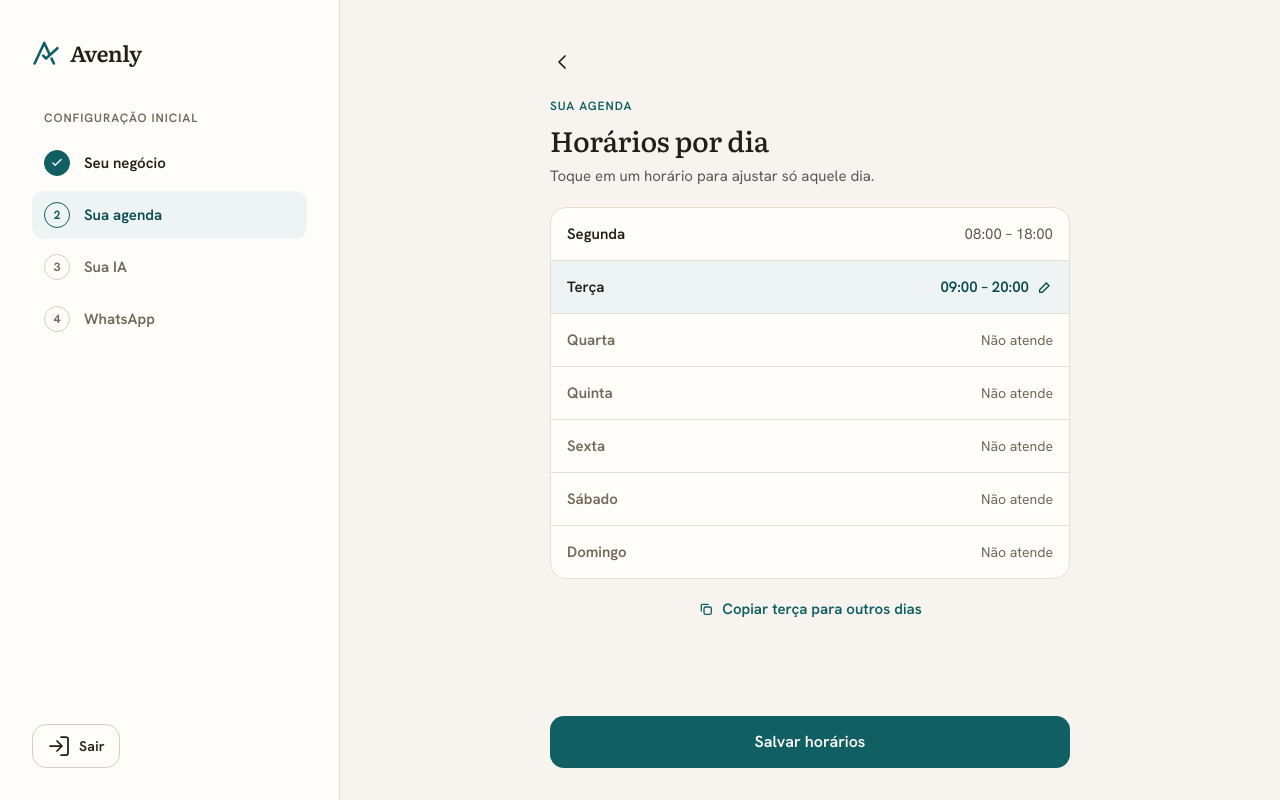
Test case: horarios: Personalizar dias diferentes grava uma regra por dia › a retomada com intervalos diferentes por dia reconstrói cada um, não só o primeiro
The image size is (1280, 800).
Expected: the heading "Horários por dia" is shown, [550,119,769,161]
Click the button "Segunda 08:00 – 18:00" at coordinates (596, 234), box [551,208,1069,260]
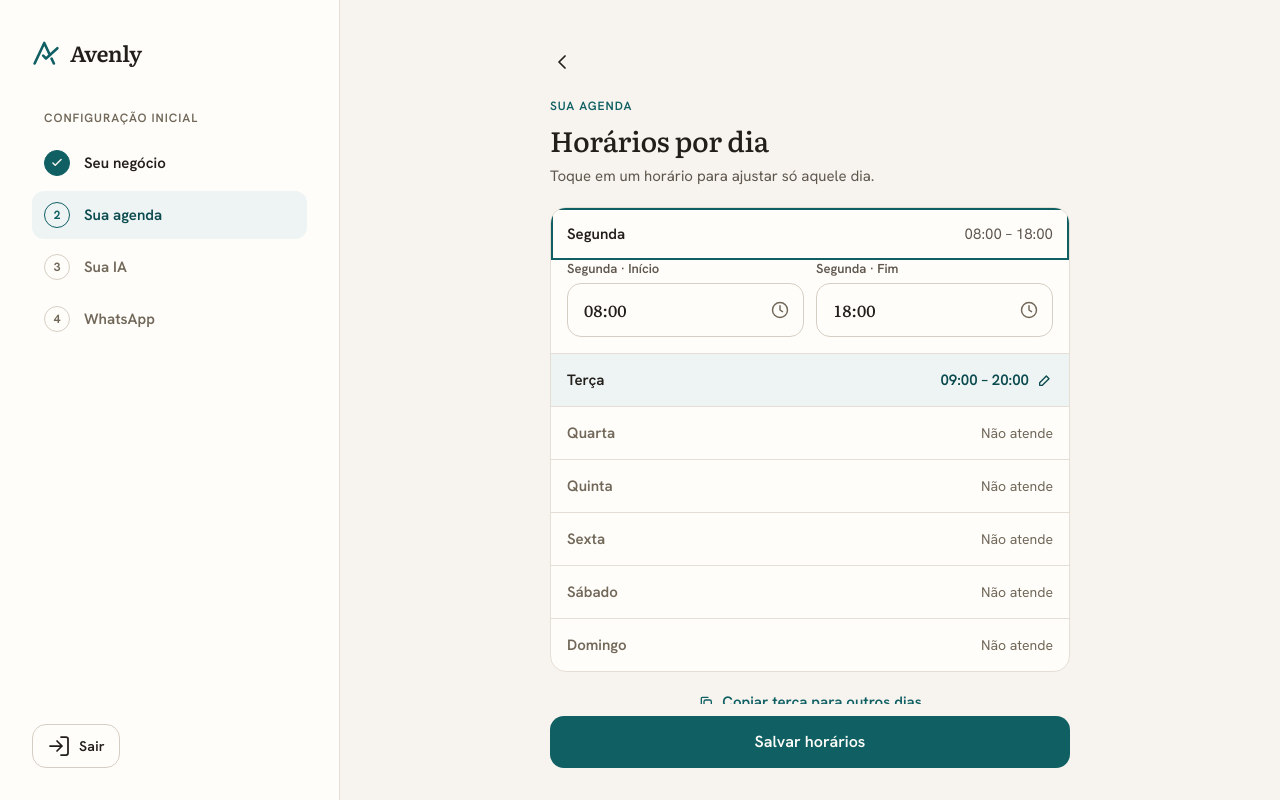
Expected: the field labelled "Segunda · Início" holds "08:00", [567,283,804,337]
Click the button "Terça 09:00 – 20:00" at coordinates (586, 380), box [551,354,1069,406]
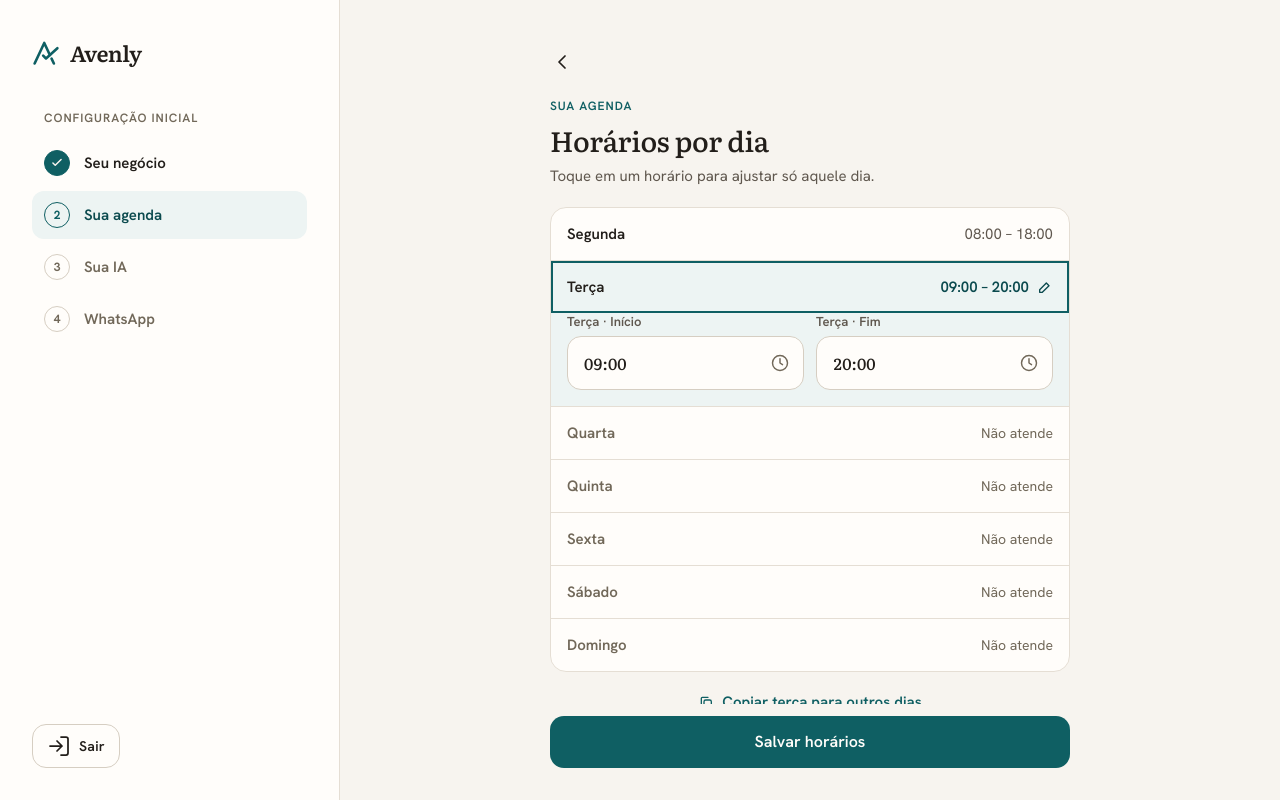
Expected: the field labelled "Terça · Fim" holds "20:00", [816,336,1053,390]
